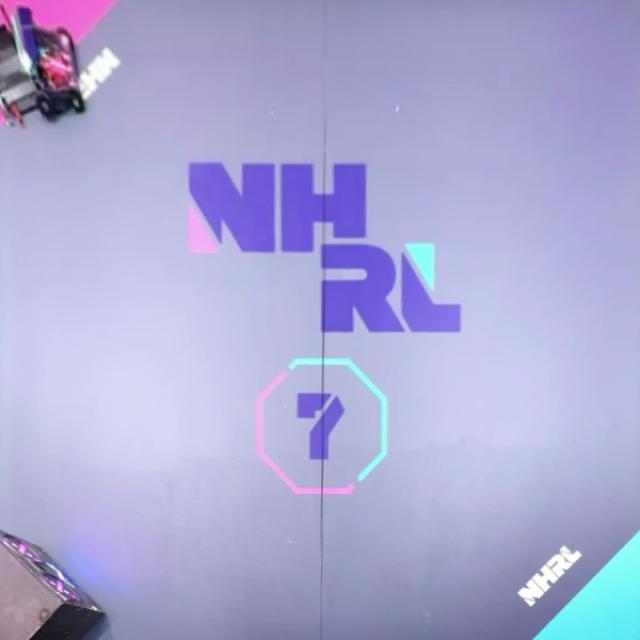housebot: (0, 525, 110, 640)
robot: (18, 7, 88, 123), (0, 2, 47, 125)
